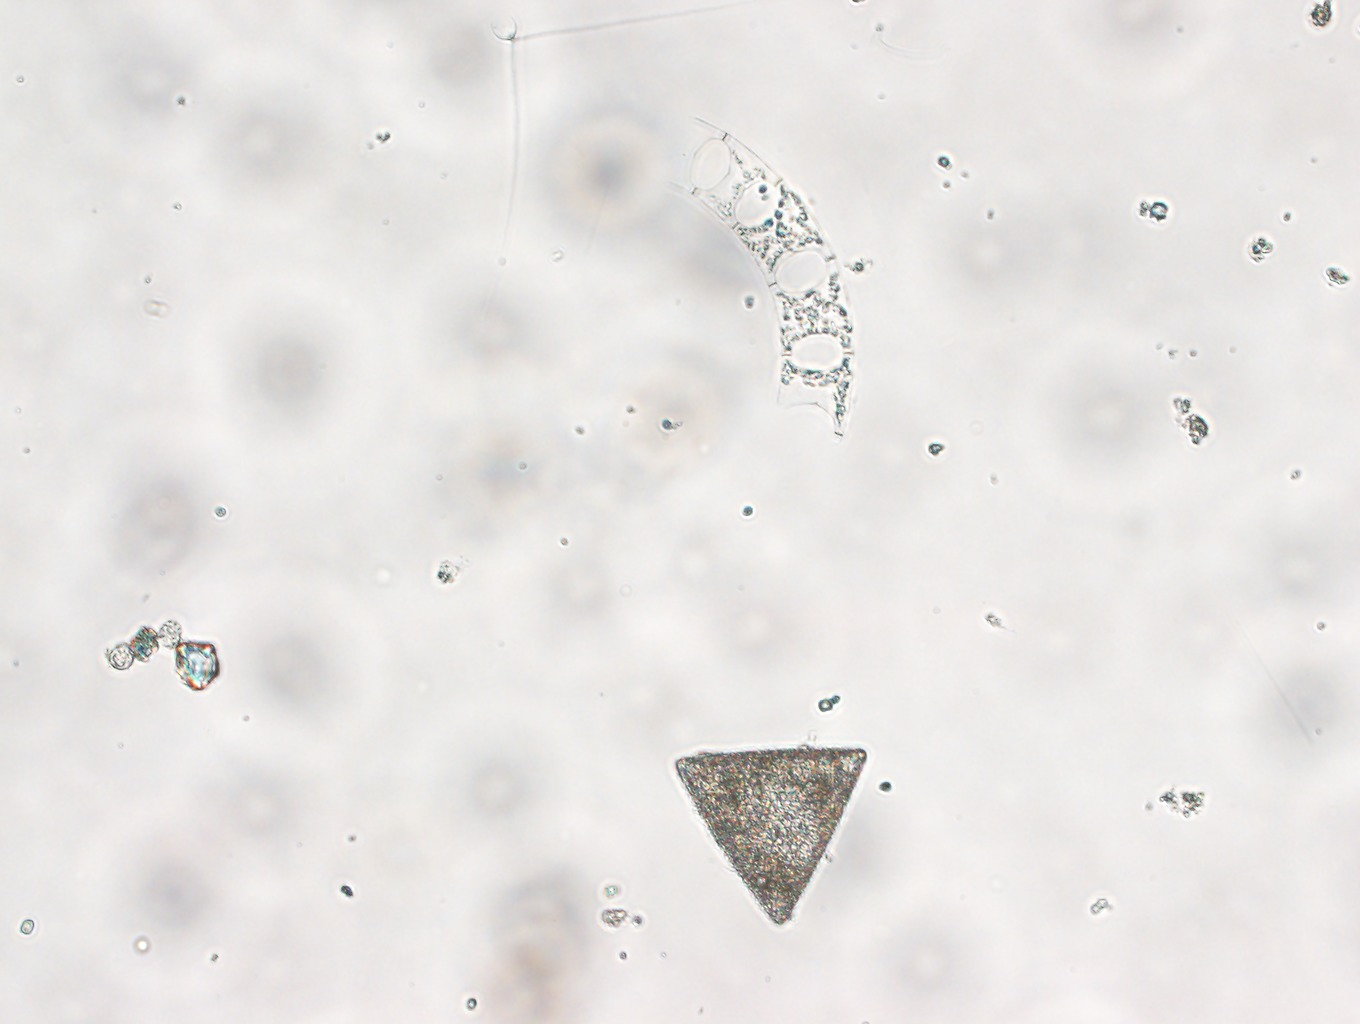eucampia: (672, 105, 860, 444)
